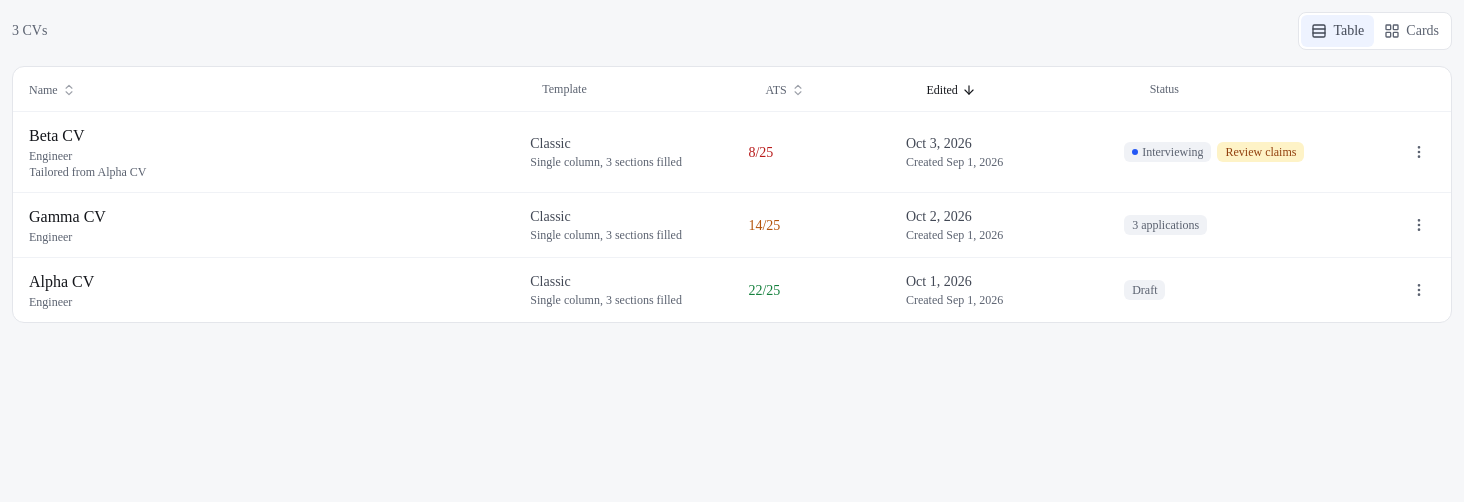
Test: CvLibrary › offers Duplicate, Download JSON, Track application and Delete in the row menu
Click the button named "More actions for Alpha CV". click: x=1419, y=290
box: x1=1403 y1=274 x2=1435 y2=306
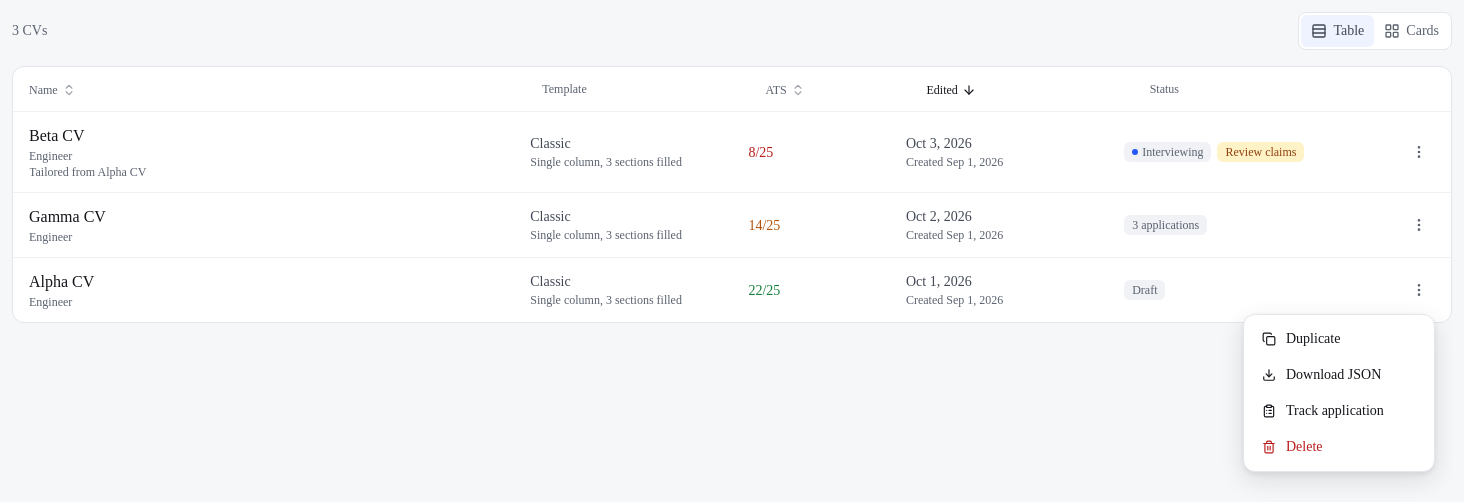
expect the menu items read "Duplicate", "Download JSON", "Track application", "Delete", in this order: met, box x1=1262 y1=331 x2=1340 y2=346; x1=1262 y1=367 x2=1381 y2=382; x1=1262 y1=403 x2=1384 y2=418; x1=1262 y1=439 x2=1322 y2=454
